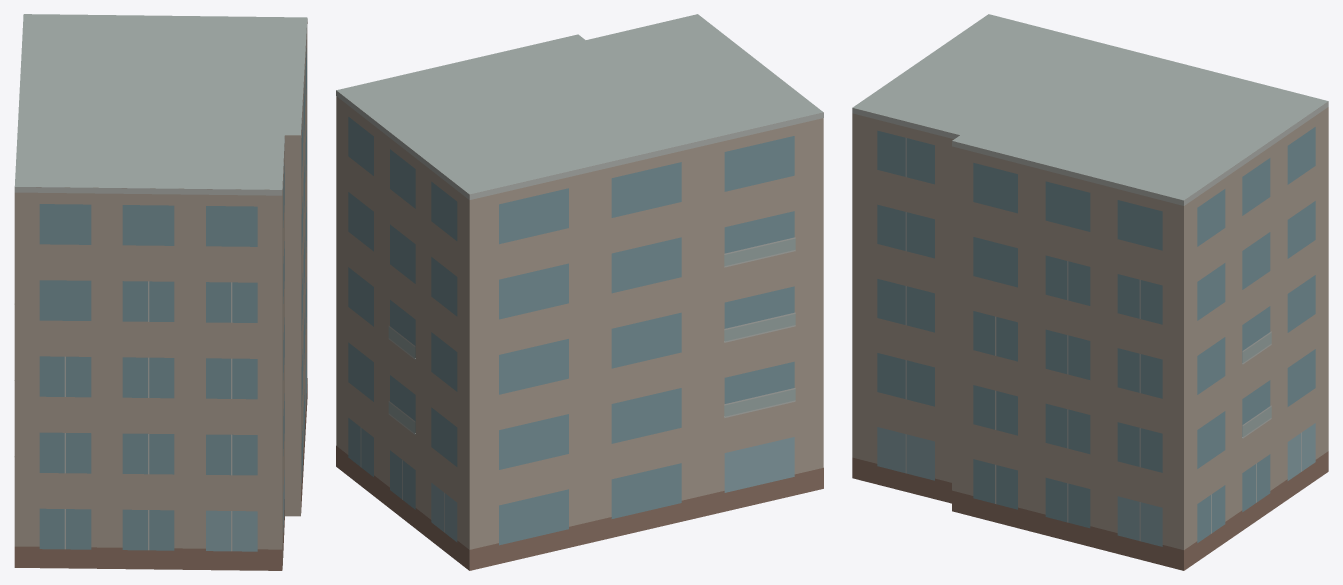
The model's file is survey-upis-32759293.glb.
3 renders of one model, left to right at view 1: azimuth 30°, elevation 25°; view 2: azimuth 150°, elevation 25°; view 3: azimuth 270°, elevation 25°, orthographic. The views are drawn at different scales.
Parts seen in each view (by area): view 1: survey-upis-32759293.tmp; view 2: survey-upis-32759293.tmp; view 3: survey-upis-32759293.tmp.
Boxes of the visible parts, left/top/right/bottom form: survey-upis-32759293.tmp: left=14, top=14, right=307, bottom=570; survey-upis-32759293.tmp: left=336, top=14, right=823, bottom=570; survey-upis-32759293.tmp: left=852, top=14, right=1328, bottom=570.
Bounding box in the file's own units: 17.5 × 16.2 × 18.89.
